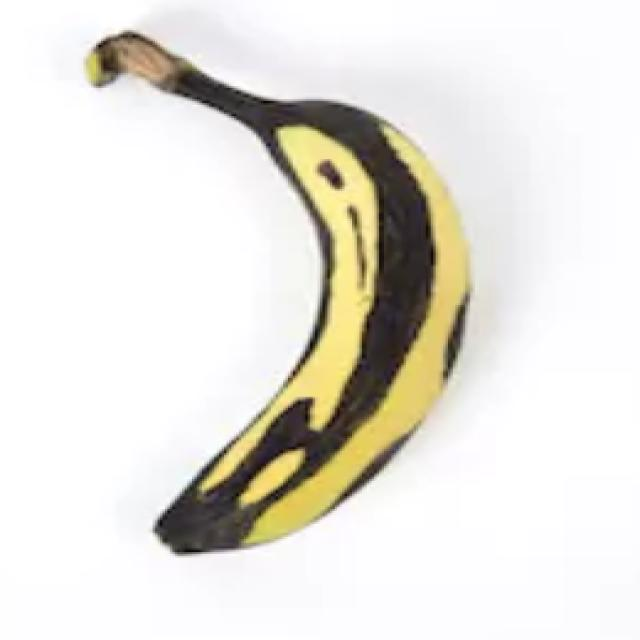rotten-banana: (81, 26, 473, 554)
